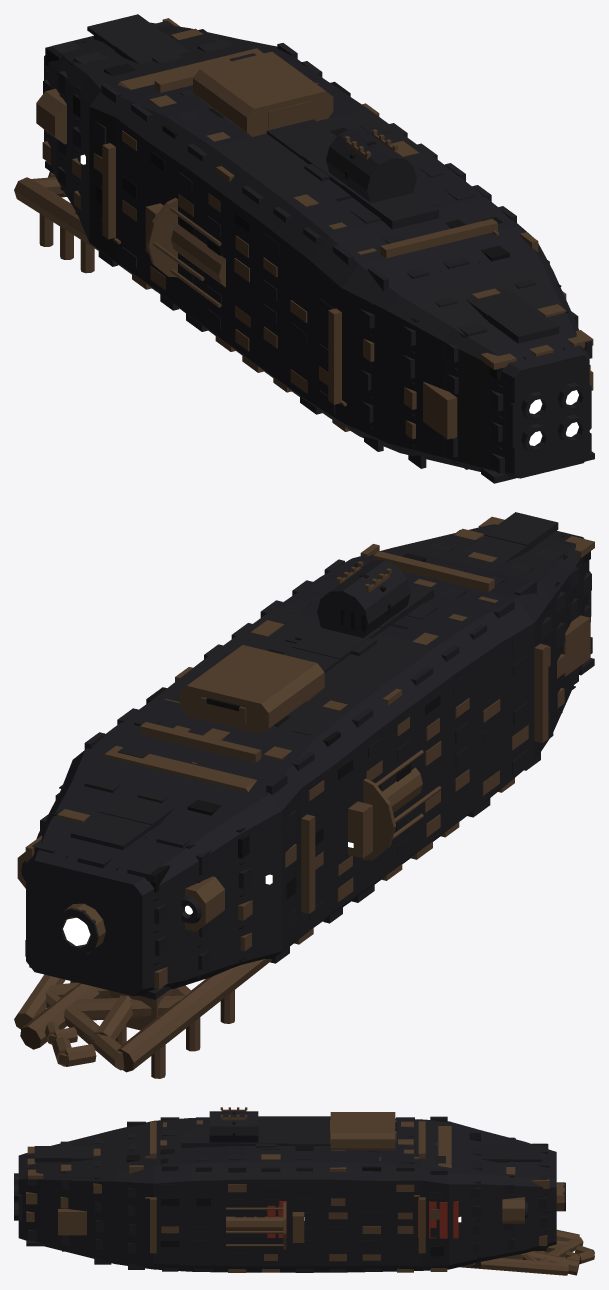
3 views of the same model, one above another, from view 1: azimuth 30°, elevation 25°; view 2: azimuth 150°, elevation 25°; view 3: azimuth 270°, elevation 25° (orthographic). The views are drawn at different scales.
Visible parts, largest first — view 1: RIMWARD_HULL, RIMWARD_EMISSIVE; view 2: RIMWARD_HULL, RIMWARD_EMISSIVE; view 3: RIMWARD_HULL.
Part boxes in pixels (<box>): RIMWARD_HULL: <box>14,14,594,483</box>; RIMWARD_EMISSIVE: <box>80,154,578,445</box>; RIMWARD_HULL: <box>14,512,594,1078</box>; RIMWARD_EMISSIVE: <box>63,842,353,945</box>; RIMWARD_HULL: <box>14,1107,594,1275</box>.
Bounding box in the file's own units: 3.57 × 3.75 × 11.88.
